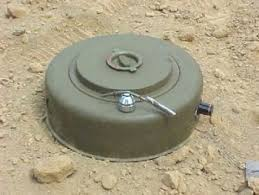car: (34, 26, 231, 168)
